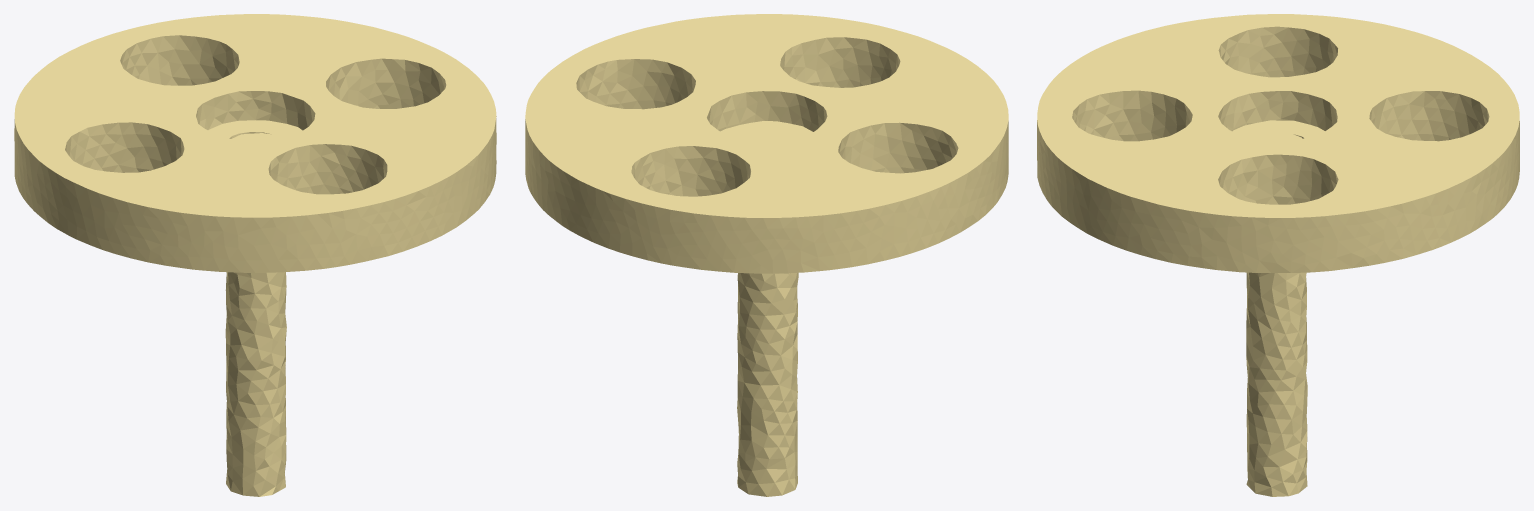
The model's file is input.gltf.
The picture shows the model from 3 angles, left to right: view 1: azimuth 30°, elevation 25°; view 2: azimuth 150°, elevation 25°; view 3: azimuth 270°, elevation 25°; orthographic projection.
Parts seen in each view (by area): view 1: Renderer Node; view 2: Renderer Node; view 3: Renderer Node.
Boxes of the visible parts, bbox=[...] form: Renderer Node: bbox=[14, 14, 496, 496]; Renderer Node: bbox=[525, 14, 1008, 496]; Renderer Node: bbox=[1037, 14, 1519, 496].
Size of the model in its own units: 1.05 by 0.8828 by 1.05.
